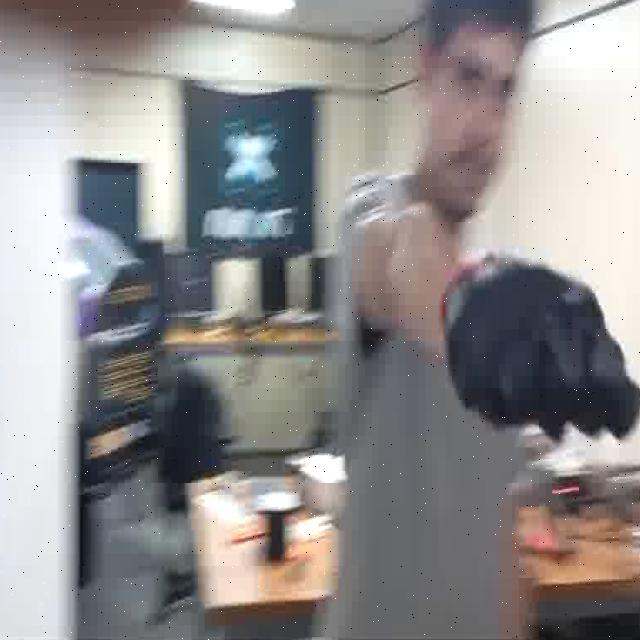Gloves: (438, 250, 640, 448)
